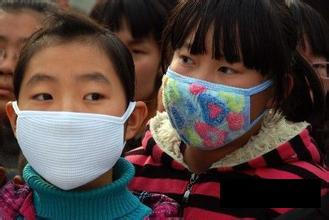NONE: (1, 24, 55, 111)
OK: (20, 64, 121, 182), (170, 51, 269, 145)
